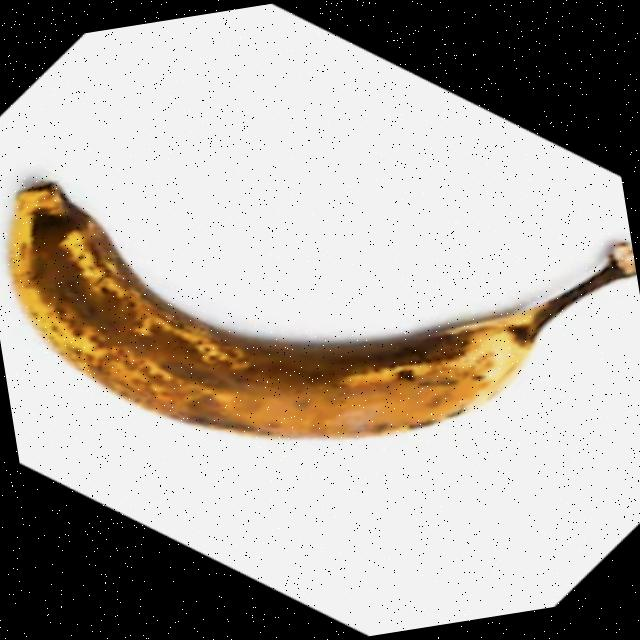overripe: (0, 93, 626, 493)
